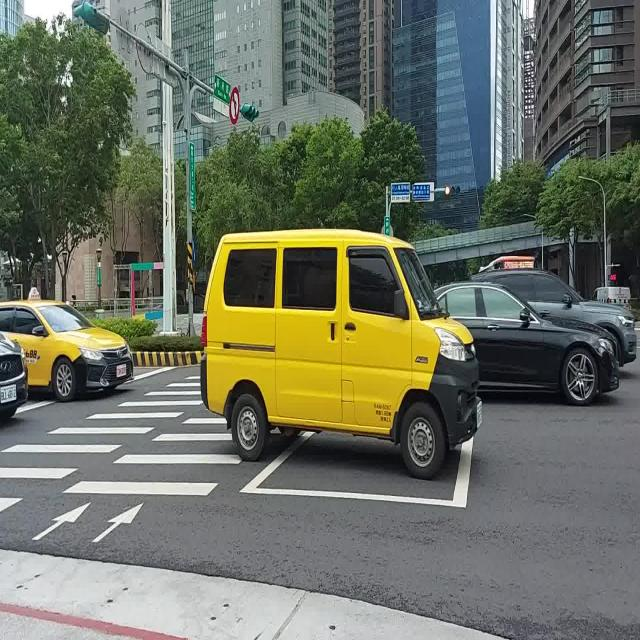car: (201, 229, 481, 478), (438, 282, 619, 404), (471, 269, 636, 364), (0, 298, 134, 402), (0, 333, 28, 419)
crosswalk: (0, 374, 203, 513), (58, 414, 242, 498)
